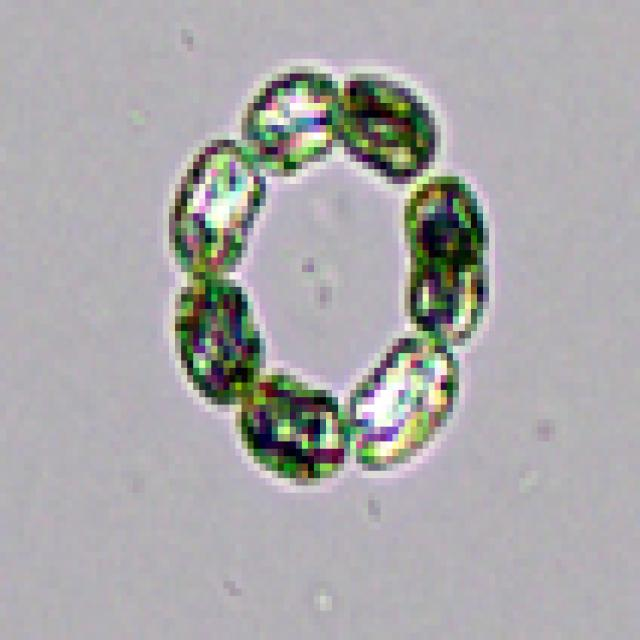Blue Green Algae: (344, 331, 459, 471), (230, 368, 356, 493), (163, 140, 272, 265), (169, 264, 266, 404), (338, 59, 441, 184), (242, 66, 338, 169), (399, 250, 495, 346), (399, 169, 489, 258)
